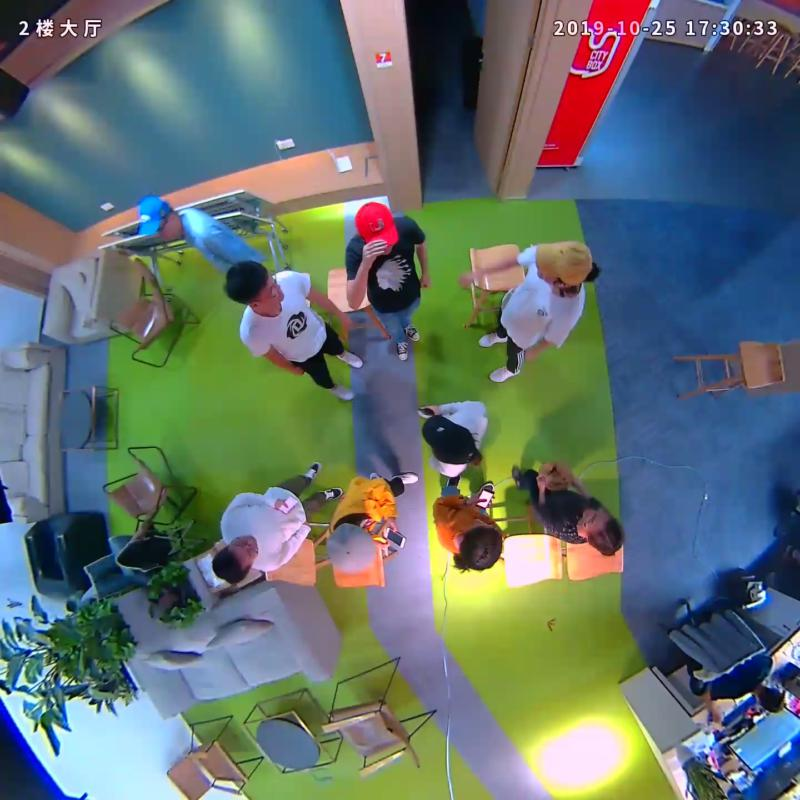head: (223, 260, 285, 309), (534, 240, 593, 291), (419, 413, 475, 465), (324, 521, 378, 574), (454, 519, 503, 572), (578, 506, 624, 559), (355, 201, 399, 255), (211, 536, 259, 585), (136, 193, 182, 242)
